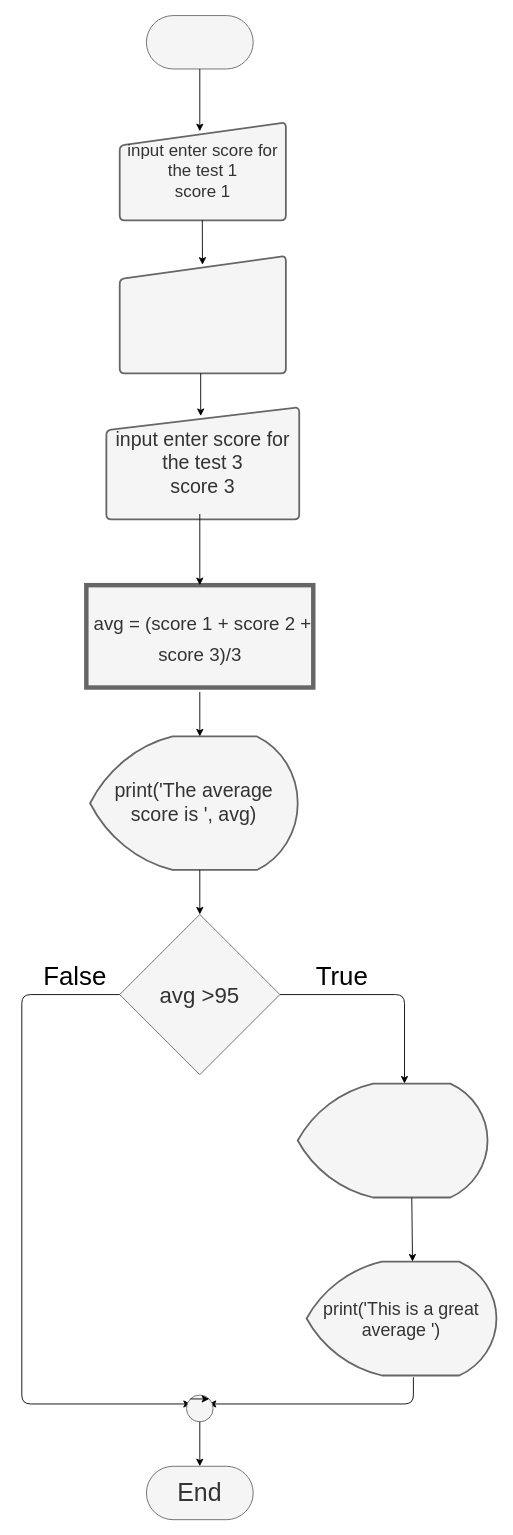
This 513x1535 diagram has some shape labels left out. The shapes that lost their labels are listed below. From the top down, each one's box as (x1, y1, x2, y2) in pixels, then its label:
(146, 15, 253, 69): start
(118, 255, 286, 374): input enter score for the test 2 score 2
(296, 1082, 488, 1198): print('Congratulation')
